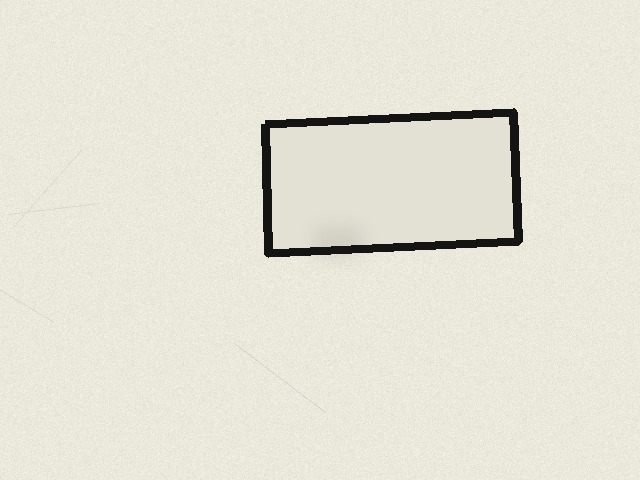parking_area: (265, 112, 518, 253)
